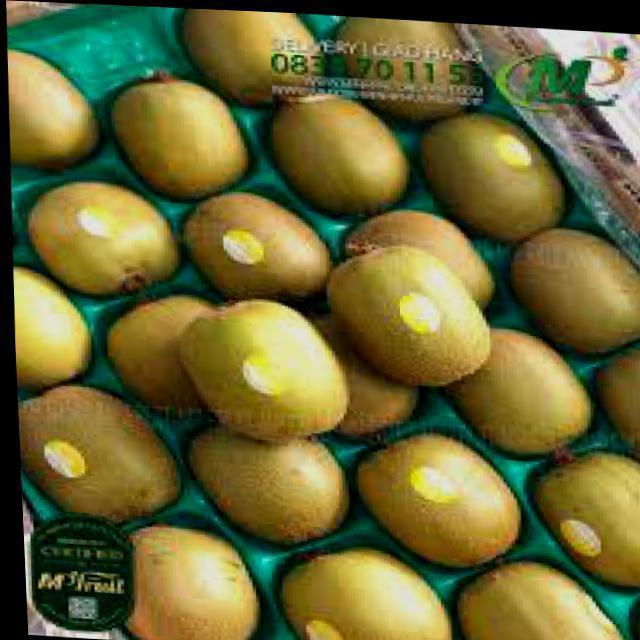kiwi: (348, 423, 520, 568), (305, 241, 484, 376), (82, 64, 253, 196), (181, 306, 340, 440), (108, 504, 261, 640), (264, 544, 473, 640), (515, 446, 640, 600), (419, 107, 570, 233), (257, 91, 408, 212), (21, 394, 153, 519), (170, 190, 323, 289), (519, 229, 640, 346), (30, 216, 176, 251)
